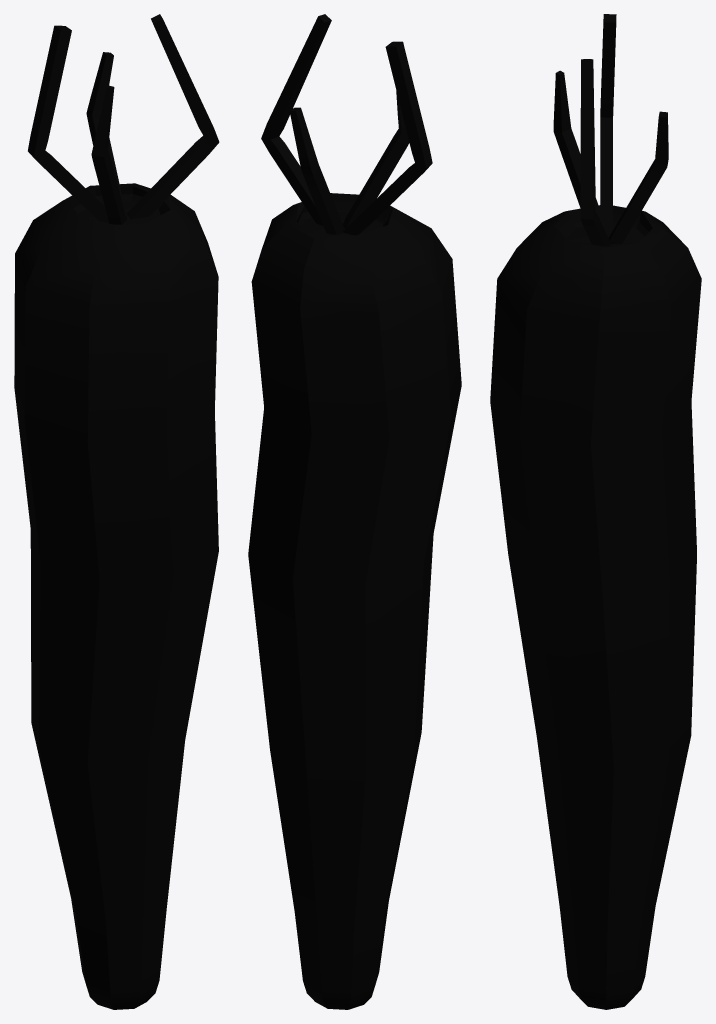
The model's file is Carrot_1.fbx.
The picture shows the model from 3 angles, left to right: view 1: azimuth 30°, elevation 25°; view 2: azimuth 150°, elevation 25°; view 3: azimuth 270°, elevation 25°; orthographic projection. The views are drawn at different scales.
Visible parts, largest first — view 1: Carrot_1; view 2: Carrot_1; view 3: Carrot_1.
Boxes of the visible parts, x1,y1,x2,y2 form: Carrot_1: (14, 14, 219, 1009); Carrot_1: (248, 14, 461, 1009); Carrot_1: (490, 14, 701, 1009).
Size of the model in its own units: 2.36 by 11.59 by 2.32.
